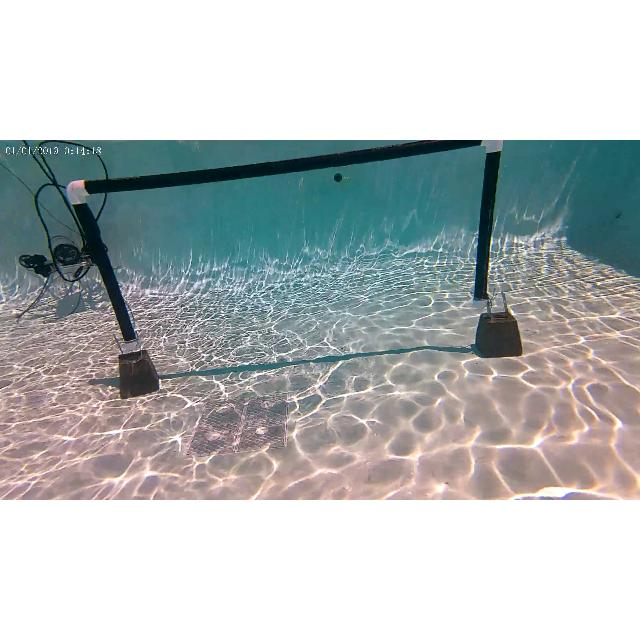prequal gate: (67, 140, 503, 350)
prequal gate leg l: (64, 186, 156, 394)
prequal gate leg r: (474, 141, 512, 353)
